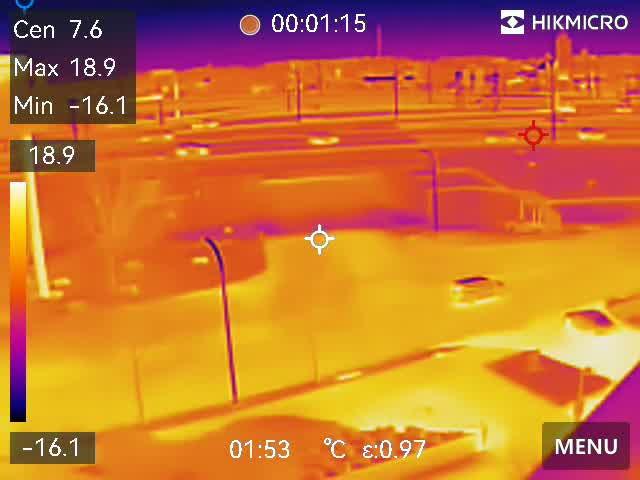smallCar: (565, 305, 617, 343)
vehicle: (446, 271, 519, 305), (172, 142, 214, 162), (573, 124, 612, 145), (134, 126, 176, 145), (304, 131, 343, 148), (189, 116, 221, 133), (613, 104, 631, 114)
